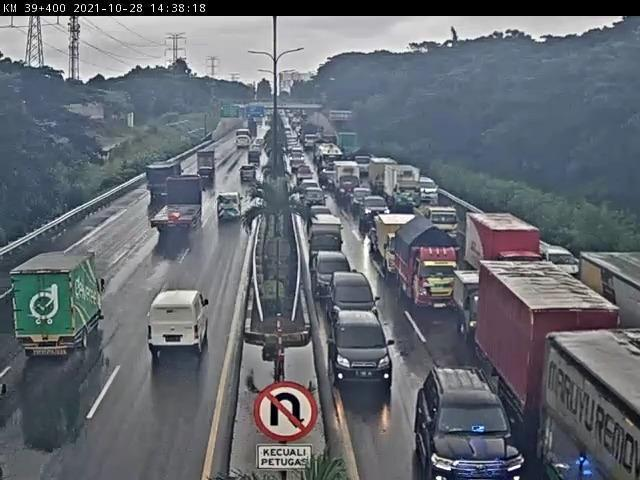Bus: (232, 126, 255, 154)
